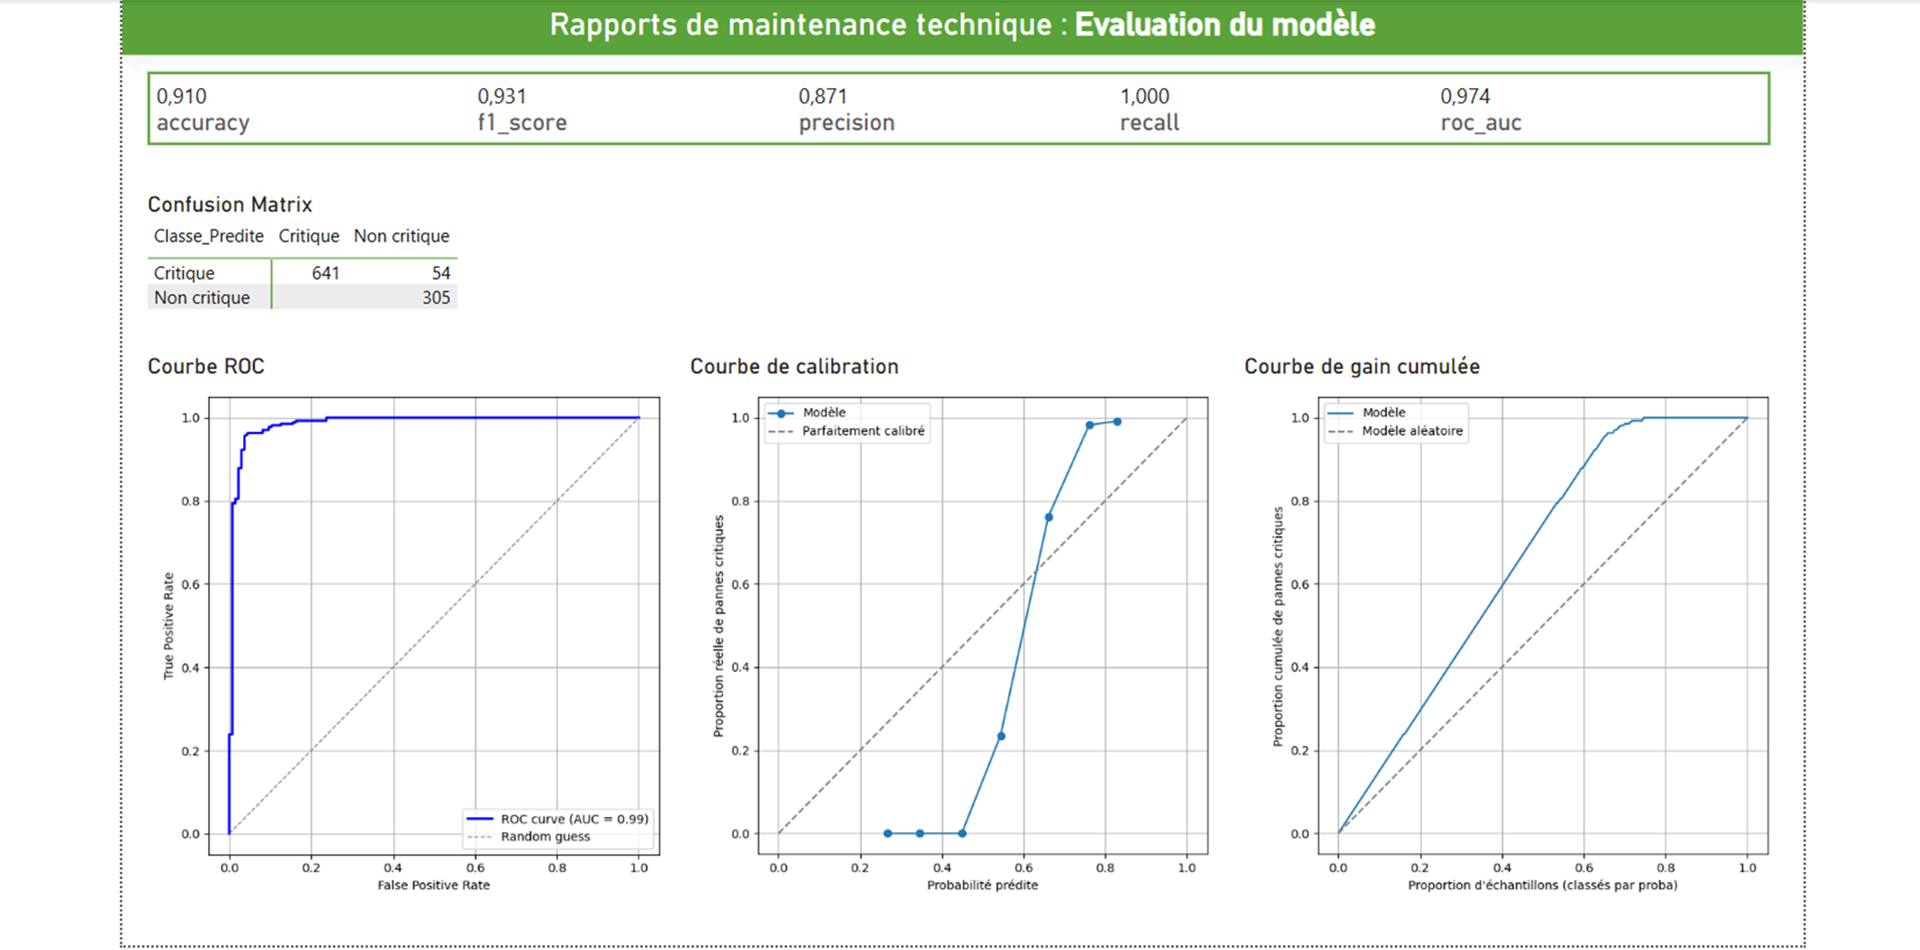

This screenshot's page, from the dashboard's own definition file:
{"tool":"powerbi","page":{"name":"Evaluation","canvas":[1280,720],"ordinal":1},"visuals":[{"type":"textbox","box":[0,0,1280,41.8],"z":0},{"type":"multiRowCard","fields":{"Values":["powerbi_model_metrics.accuracy","powerbi_model_metrics.f1_score","powerbi_model_metrics.precision","powerbi_model_metrics.recall","powerbi_model_metrics.roc_auc"]},"box":[14.5,50,1246.4,66.4],"z":1000},{"type":"pivotTable","title":"Confusion Matrix","fields":{"Values":["CountNonNull(powerbi_dataset_predictions.panne_critique)"],"Rows":["powerbi_dataset_predictions.Classe_Predite"],"Columns":["powerbi_dataset_predictions.panne_critique_label"]},"box":[14.5,145.5,253.6,107.3],"z":2000},{"type":"pythonVisual","title":"Courbe ROC","fields":{"Values":["powerbi_dataset_predictions.panne_critique","powerbi_dataset_predictions.proba_critique"]},"box":[14.5,269.1,412.7,425.5],"z":3000},{"type":"pythonVisual","title":"Courbe de calibration","fields":{"Values":["powerbi_dataset_predictions.proba_critique","powerbi_dataset_predictions.panne_critique"]},"box":[427.3,269.1,421.8,425.5],"z":4000},{"type":"pythonVisual","title":"Courbe de gain cumulée","fields":{"Values":["powerbi_dataset_predictions.panne_critique","powerbi_dataset_predictions.proba_critique"]},"box":[849.1,269.1,430.9,425.5],"z":5000}]}

Visuals, with their boxes on the page's 1280x720 design canvas (x1, y1, x2, y2). These are canvas units, not pixel positions in the 1920x950 screenshot, which may show the page scaled, cropped or inside an application window:
textbox: rect(0, 0, 1280, 42)
multiRowCard - powerbi_model_metrics.accuracy x powerbi_model_metrics.f1_score: rect(14, 50, 1261, 116)
"Confusion Matrix" pivotTable: rect(14, 146, 268, 253)
"Courbe ROC" pythonVisual: rect(14, 269, 427, 695)
"Courbe de calibration" pythonVisual: rect(427, 269, 849, 695)
"Courbe de gain cumulée" pythonVisual: rect(849, 269, 1280, 695)
